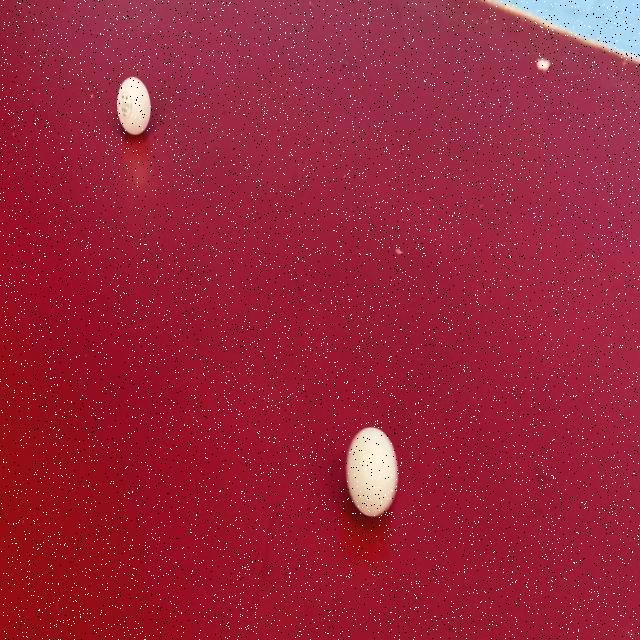ping-pong-ball: (344, 422, 402, 520), (115, 72, 155, 140)
